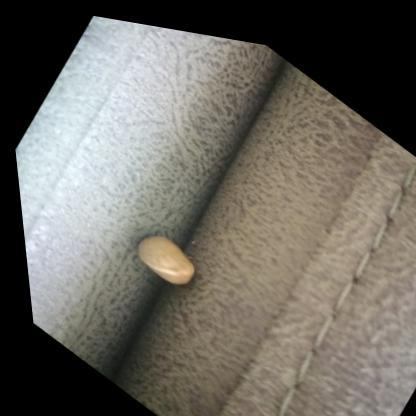pistachio: (135, 233, 198, 294)
